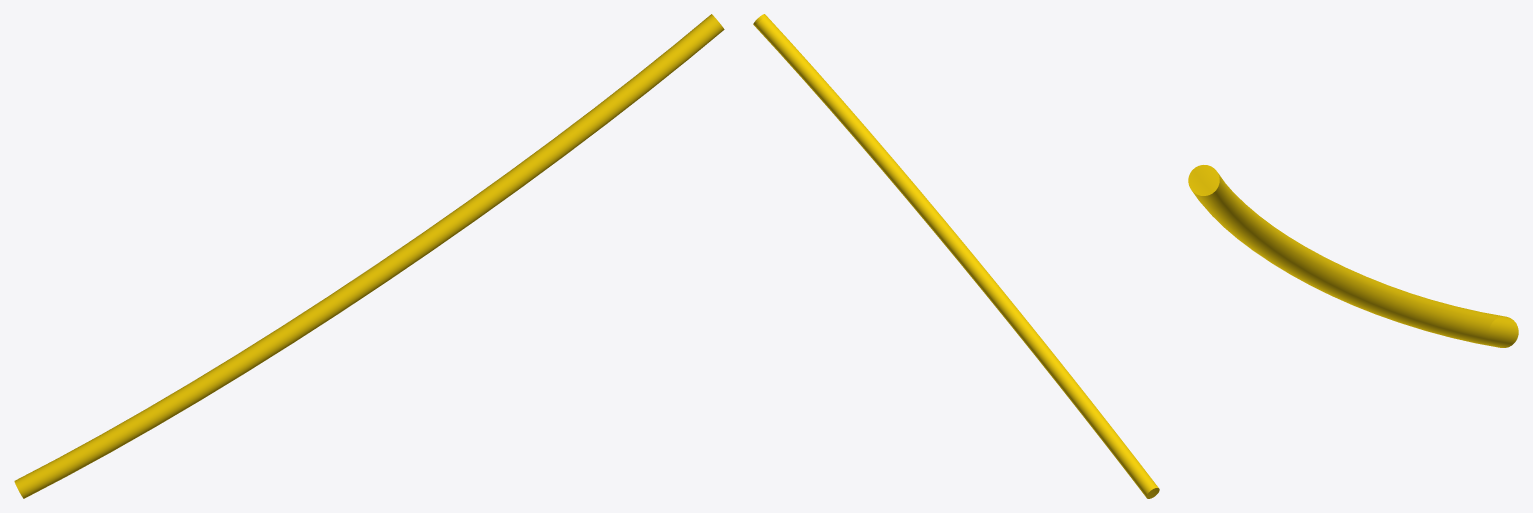
The model's file is Event_421115418_track_3.fbx.
The picture shows the model from 3 angles, left to right: view 1: azimuth 30°, elevation 25°; view 2: azimuth 150°, elevation 25°; view 3: azimuth 270°, elevation 25°; orthographic projection. The views are drawn at different scales.
Parts seen in each view (by area): view 1: Model; view 2: Model; view 3: Model.
Part boxes in pixels (x1,y1,x2,y2): Model: [14, 14, 724, 498]; Model: [753, 14, 1159, 498]; Model: [1188, 165, 1518, 347].
Bounding box in the file's own units: 1.38 × 0.8806 × 0.416.
